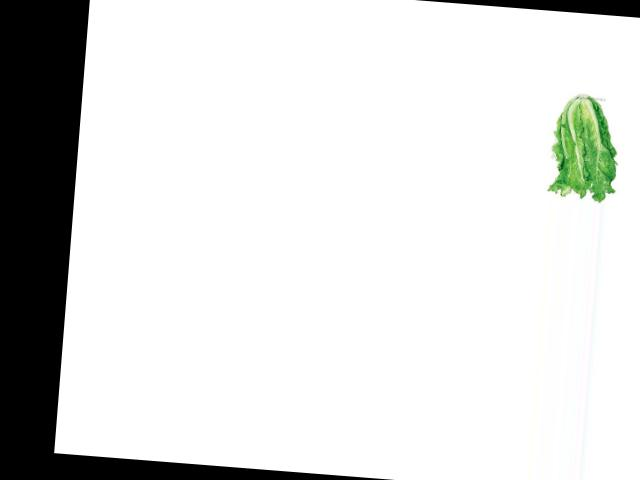lettuce: (544, 94, 622, 203)
